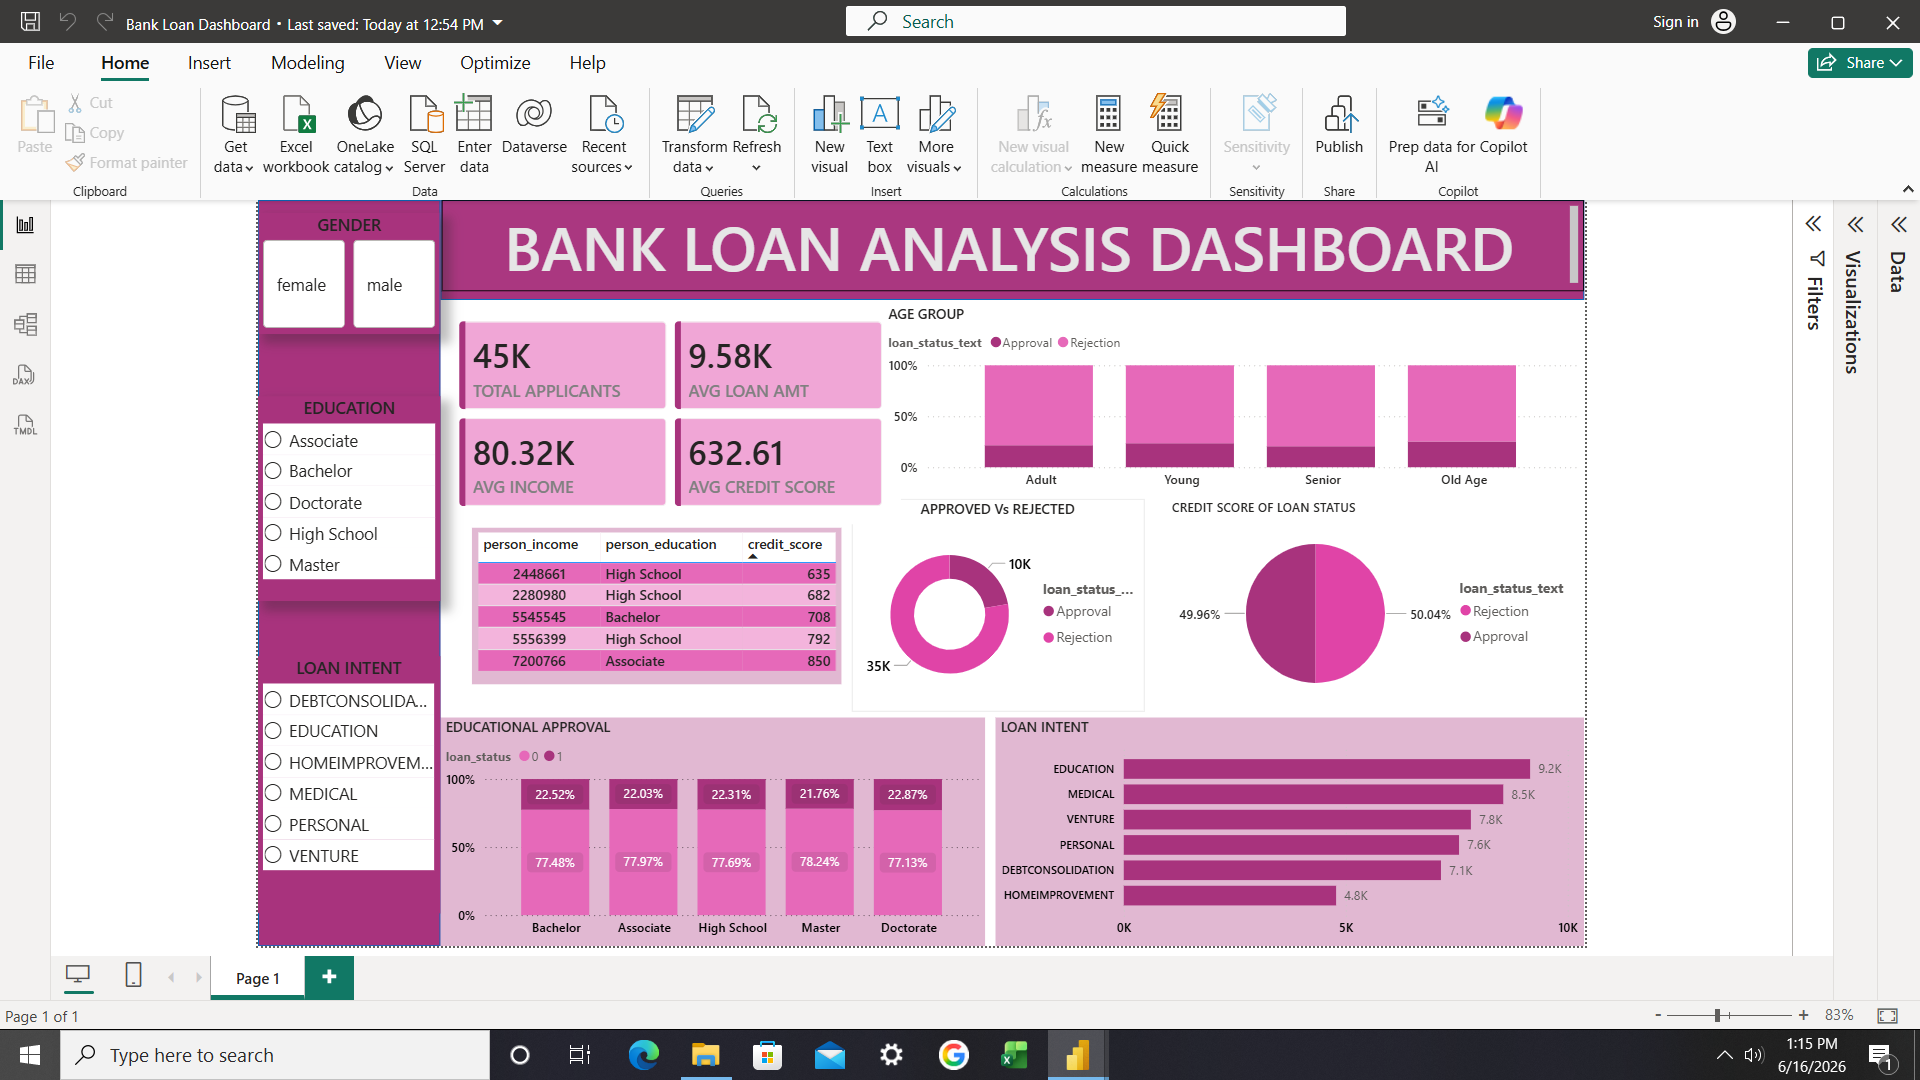

Layout of this report page (visuals, bound fields, positions):
{"tool":"powerbi","page":{"name":"Page 1","canvas":[1280,720],"ordinal":0},"visuals":[{"type":"donutChart","title":"APPROVED Vs REJECTED","fields":{"Y":["CountNonNull(loan_data.loan_status_text)"],"Series":["loan_data.loan_status_text"]},"box":[573.6,288.2,281.3,205.8],"z":0},{"type":"hundredPercentStackedColumnChart","title":"EDUCATIONAL APPROVAL","fields":{"Category":["loan_data.person_education"],"Series":["loan_data.loan_status"],"Y":["CountNonNull(loan_data.loan_status)"]},"box":[175.6,499.5,525.6,220.9],"z":1000},{"type":"clusteredBarChart","title":"LOAN INTENT","fields":{"Category":["loan_data.loan_intent"],"Y":["CountNonNull(loan_data.loan_intent)"]},"box":[712.2,499.5,568.1,220.9],"z":2000},{"type":"shape","box":[176.1,0,1103.9,96.5],"z":3000},{"type":"textbox","box":[177.3,0,1102.7,88.1],"z":4000},{"type":"shape","box":[0,0,176.1,720.2],"z":5000},{"type":"cardVisual","fields":{"Data":["CountNonNull(loan_data.loan_status)","Avg(loan_data.loan_amnt)","Avg(loan_data.person_income)","Avg(loan_data.credit_score)"]},"box":[177,100.2,443.2,212.7],"z":6000},{"type":"pieChart","title":"CREDIT SCORE OF LOAN STATUS","fields":{"Category":["loan_data.loan_status_text"],"Y":["Avg(loan_data.credit_score)"]},"box":[876.8,288.2,403.4,205.8],"z":7000},{"type":"advancedSlicerVisual","fields":{"Values":["loan_data.person_gender"]},"box":[0,12.1,176.1,117],"z":8000},{"type":"listSlicer","title":"EDUCATION","fields":{"Values":["loan_data.person_education"]},"box":[0,189.4,176.1,197.9],"z":9000},{"type":"listSlicer","title":"LOAN INTENT","fields":{"Values":["loan_data.loan_intent"]},"box":[0,440.5,175.6,248.4],"z":10000},{"type":"hundredPercentStackedColumnChart","title":"AGE GROUP","fields":{"Category":["loan_data.Age Group"],"Series":["loan_data.loan_status_text"],"Y":["CountNonNull(loan_data.Age Group)"]},"box":[603.8,100.2,675.1,188],"z":11000},{"type":"tableEx","fields":{"Values":["loan_data.person_income","loan_data.person_education","loan_data.credit_score"]},"box":[205.8,315.6,356.8,150.9],"z":12000}]}

Visuals, with their boxes on the page's 1280x720 design canvas (x1, y1, x2, y2). These are canvas units, not pixel positions in the 1920x1080 screenshot, which may show the page scaled, cropped or inside an application window:
"APPROVED Vs REJECTED" donutChart: [574,288,855,494]
"EDUCATIONAL APPROVAL" hundredPercentStackedColumnChart: [176,500,701,720]
"LOAN INTENT" clusteredBarChart: [712,500,1280,720]
shape: [176,0,1280,96]
textbox: [177,0,1280,88]
shape: [0,0,176,720]
cardVisual - CountNonNull(loan_data.loan_status) x Avg(loan_data.loan_amnt): [177,100,620,313]
"CREDIT SCORE OF LOAN STATUS" pieChart: [877,288,1280,494]
advancedSlicerVisual - loan_data.person_gender: [0,12,176,129]
"EDUCATION" listSlicer: [0,189,176,387]
"LOAN INTENT" listSlicer: [0,440,176,689]
"AGE GROUP" hundredPercentStackedColumnChart: [604,100,1279,288]
tableEx - loan_data.person_income x loan_data.person_education: [206,316,563,466]
